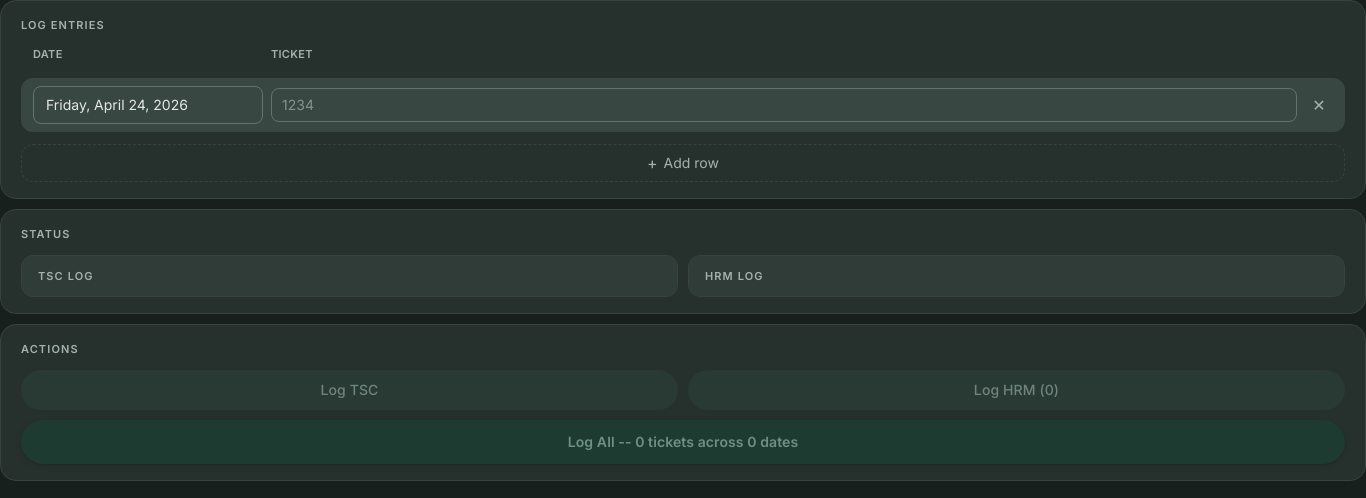
LogForm -- ticket verification › marks row invalid when Jira returns valid: false
Type "9999" into the field with placeholder "1234" at (784, 105), box x1=271 y1=88 x2=1297 y2=122
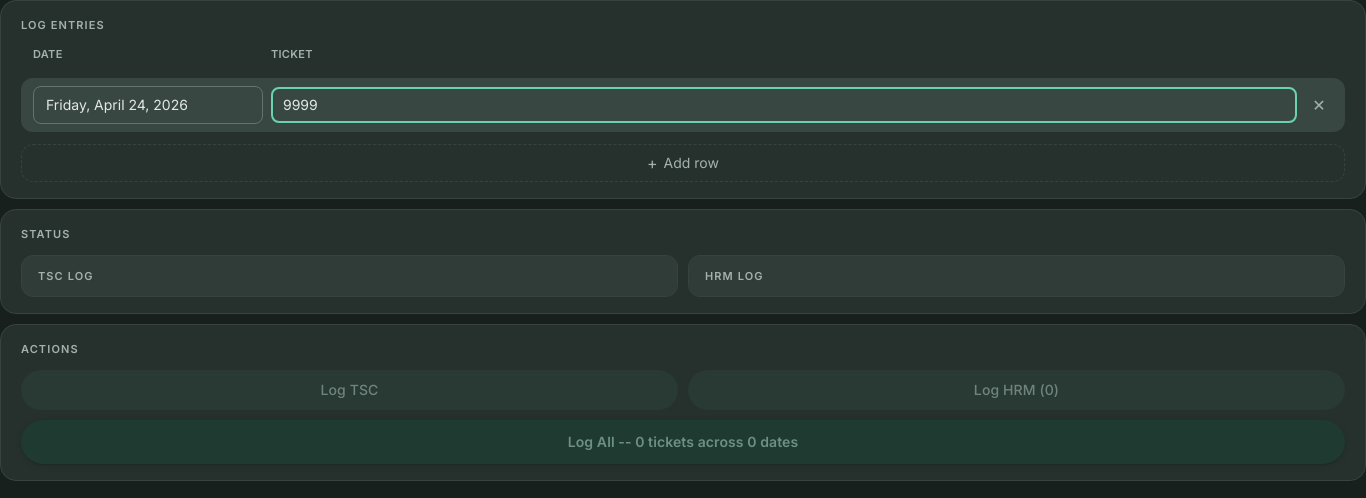
Leave the field with placeholder "1234", box x1=271 y1=87 x2=1297 y2=123
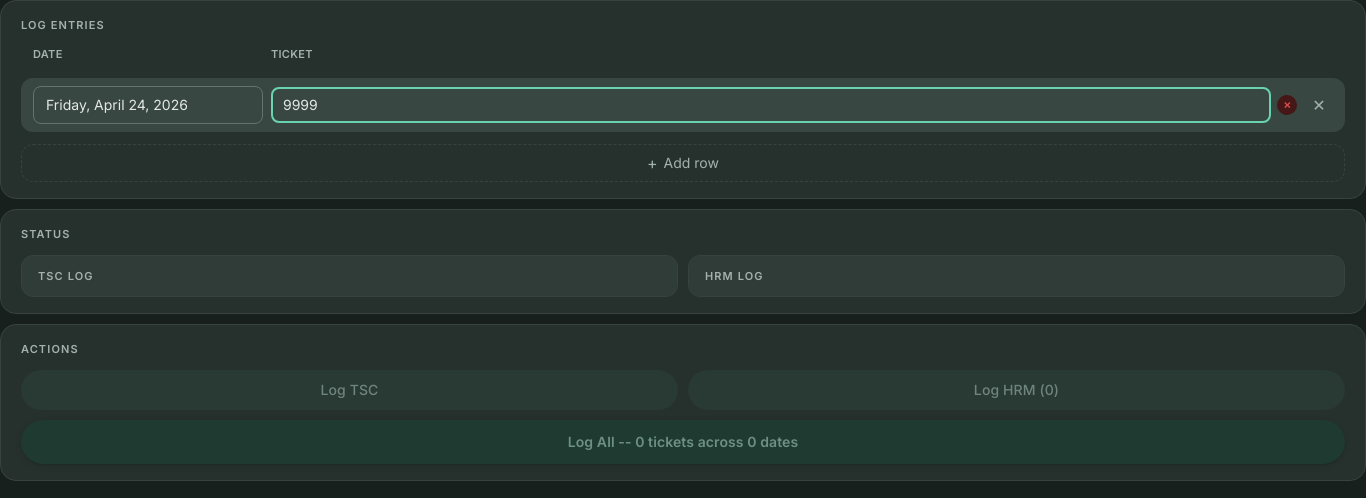
Result: the text named "Invalid ticket" is shown at x1=1277 y1=95 x2=1297 y2=115
